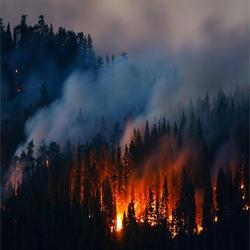fire: (114, 212, 125, 234)
